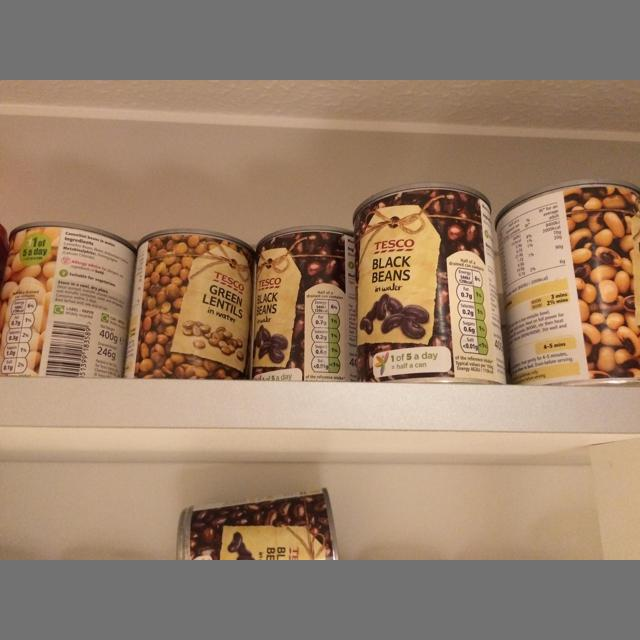litter: (352, 182, 507, 385), (494, 178, 640, 387), (0, 221, 137, 379), (123, 228, 256, 380), (251, 225, 357, 382), (176, 487, 339, 560)
